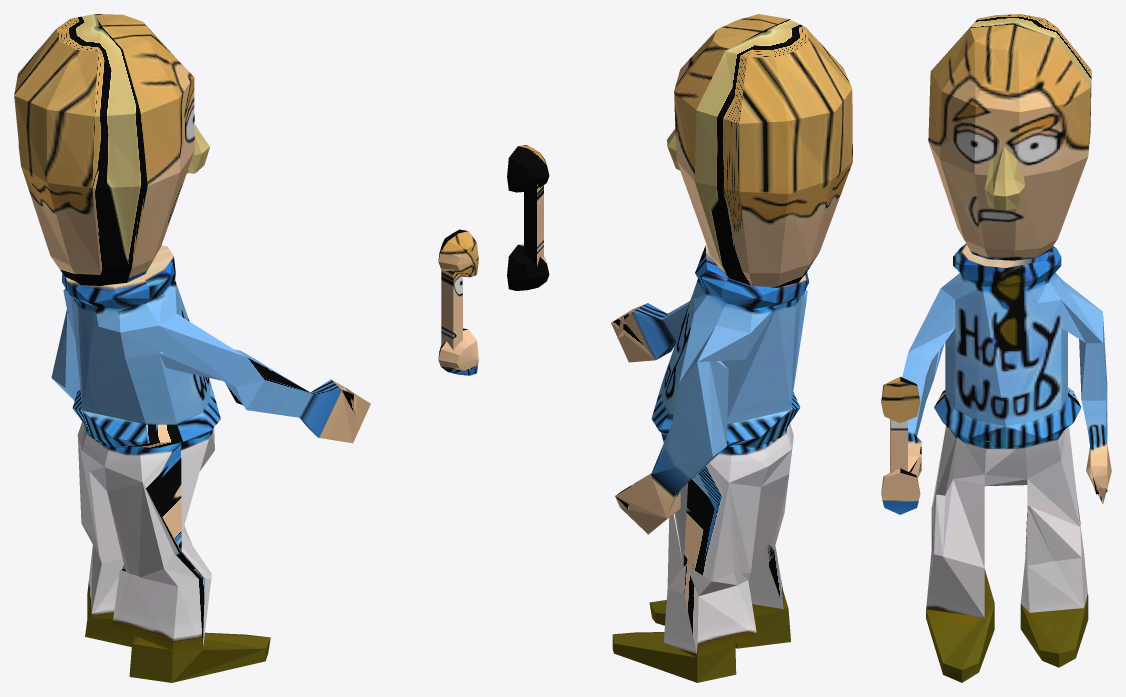
Rendered from PipPhone.glb.
3 views of the same model, side by side, from view 1: azimuth 30°, elevation 25°; view 2: azimuth 150°, elevation 25°; view 3: azimuth 270°, elevation 25° (orthographic). The views are drawn at different scales.
Parts seen in each view (by area): view 1: PipPhone; view 2: PipPhone; view 3: PipPhone.
Part boxes in pixels (left/top/right/bottom): PipPhone: left=14, top=14, right=478, bottom=682; PipPhone: left=507, top=14, right=852, bottom=682; PipPhone: left=881, top=14, right=1111, bottom=682.
Bounding box in the file's own units: 73.59 × 117 × 41.03.
Materials: 1 (1 with a texture image).
